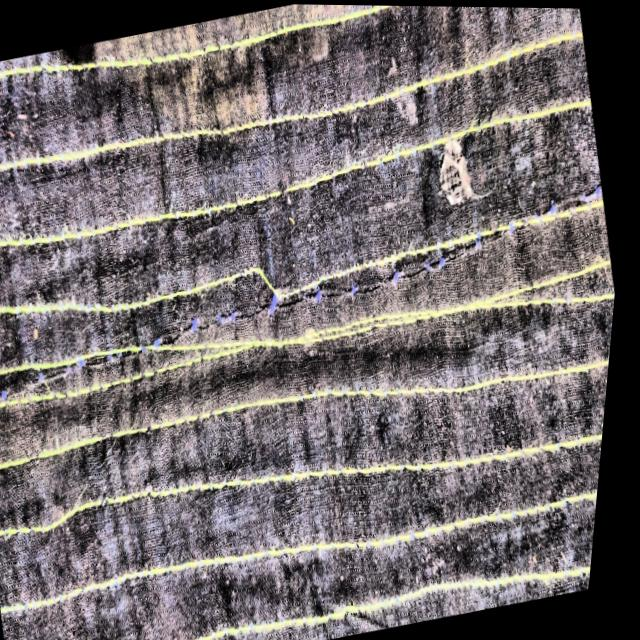Stitch: (189, 304, 368, 377), (243, 257, 297, 312)
